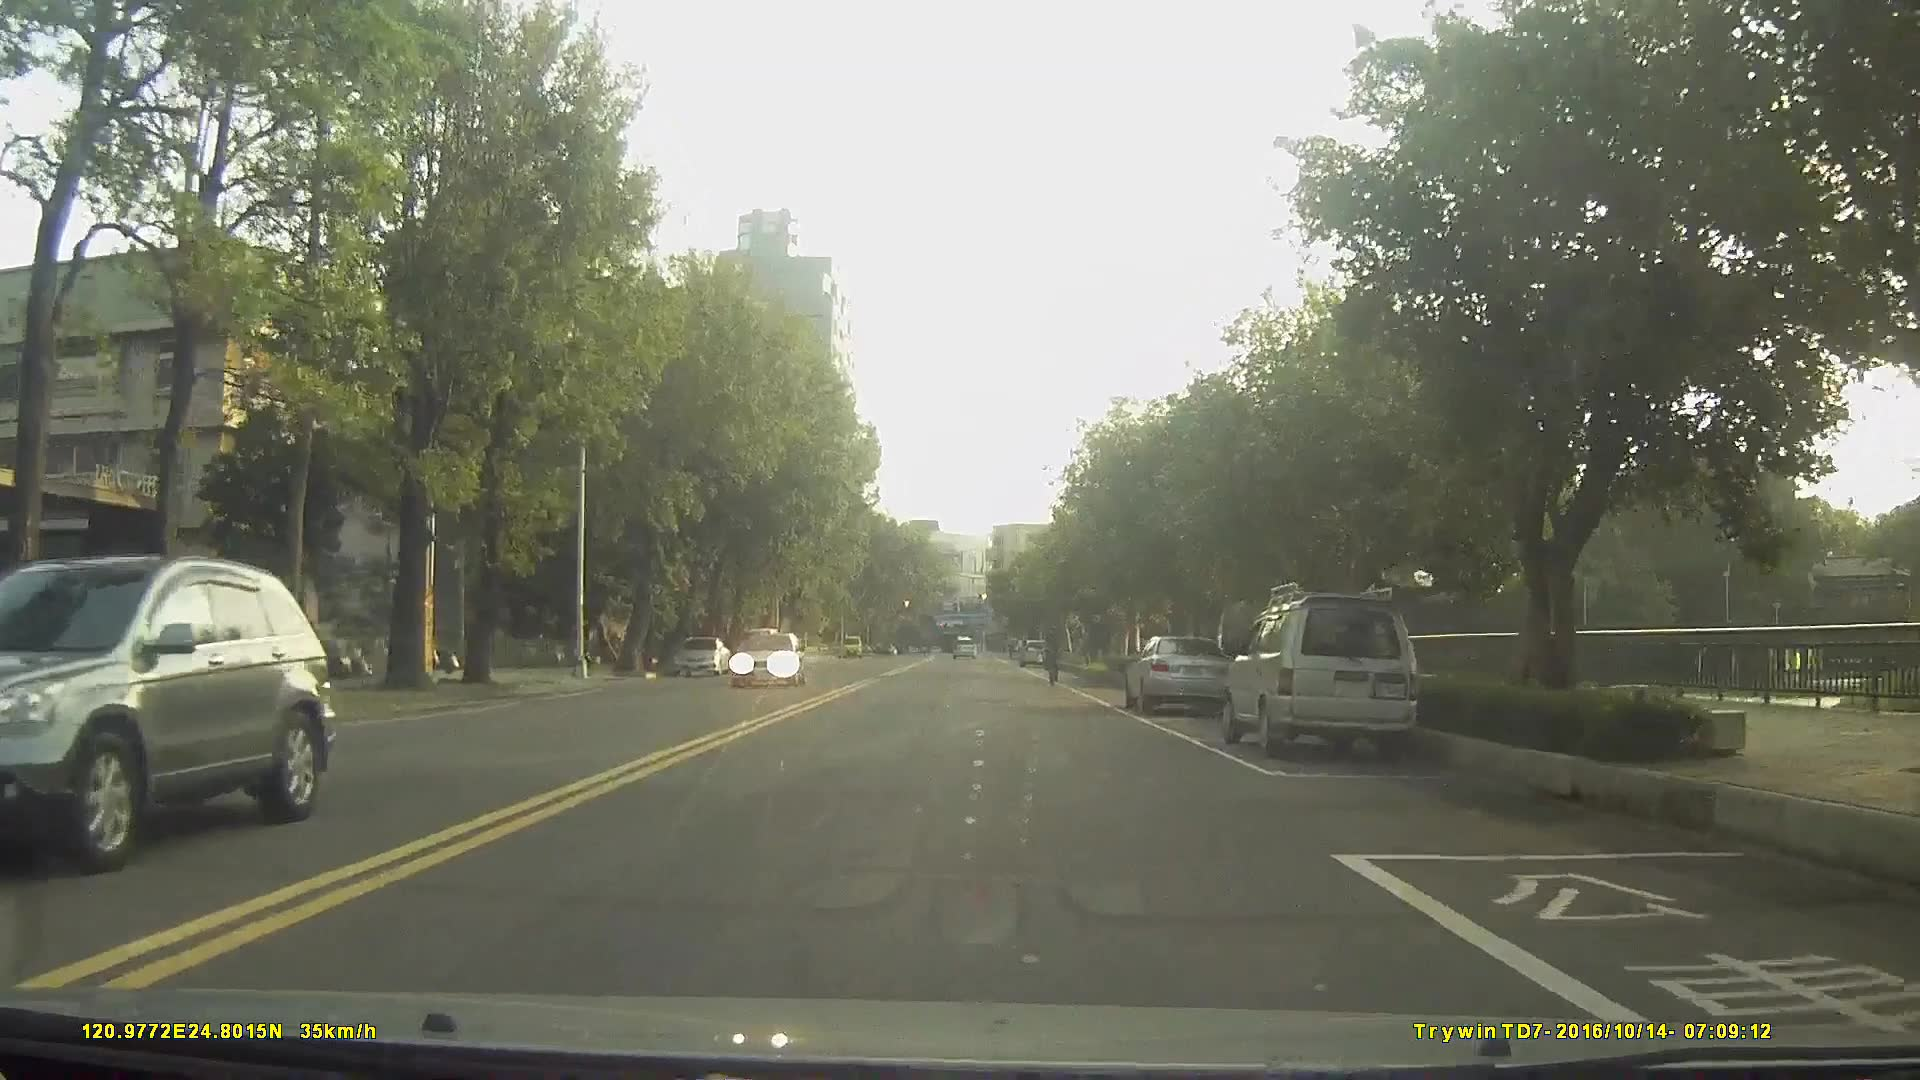rider: (1043, 625, 1064, 691)
vehicle: (0, 551, 337, 874), (1218, 593, 1419, 759), (1122, 632, 1236, 717), (727, 628, 809, 688), (671, 634, 729, 677), (735, 631, 780, 674), (1019, 636, 1050, 669), (948, 634, 976, 660)
